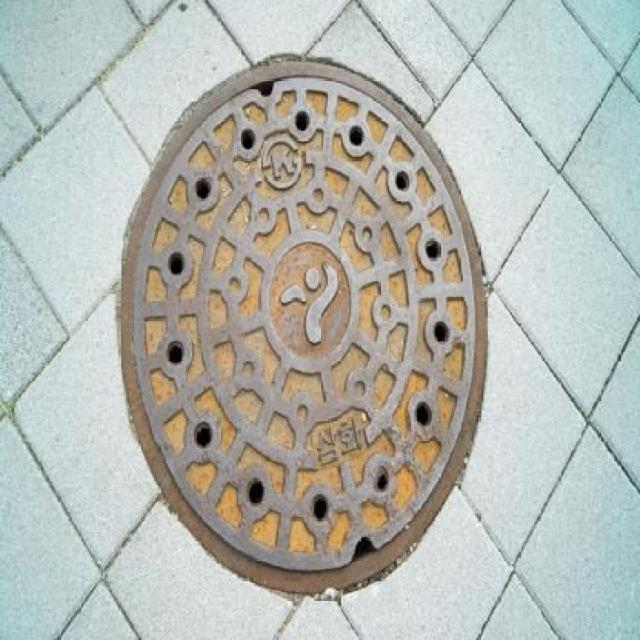Sewer Cover: (97, 68, 501, 566)
